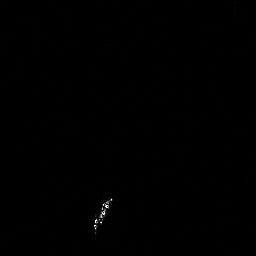ship: (91, 196, 116, 235)
